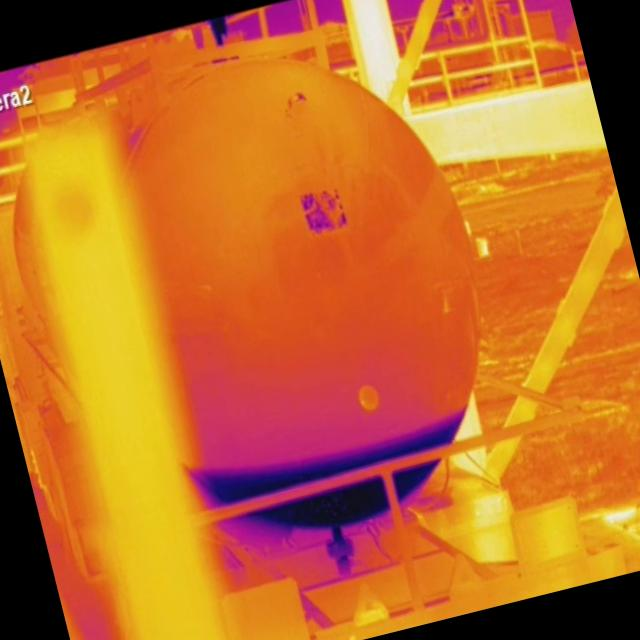tank: (91, 19, 528, 558)
